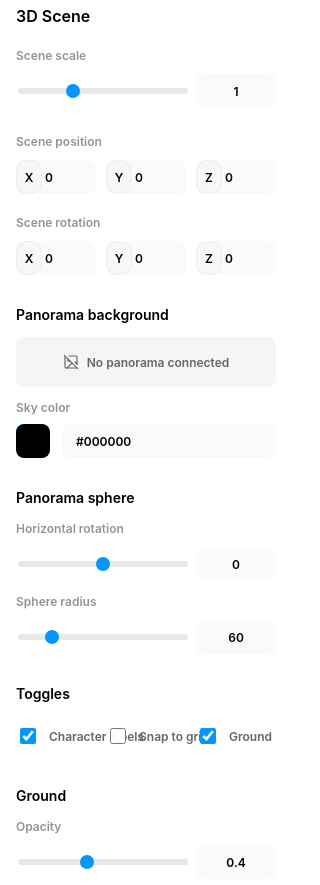
updates panorama yaw and ground height from both sliders and numeric inputs
Step 1. Replace the text in the number field named "Panorama horizontal rotation" with "45" → (236, 564), box [196,547,276,581]
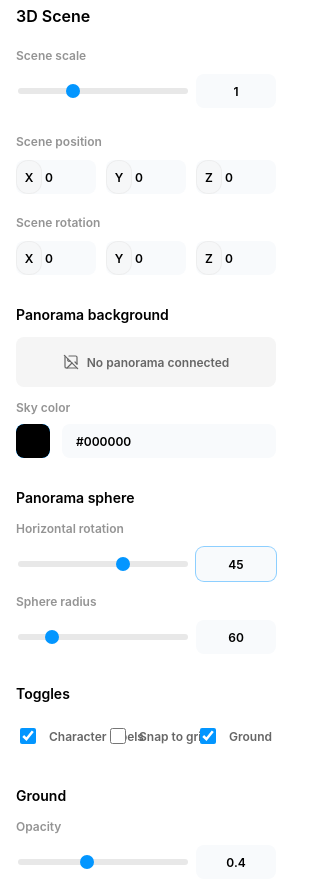
Check: the slider named "Panorama horizontal rotation slider" holds "45"
Step 2. Set the slider named "Panorama horizontal rotation slider" to "-30" → (90, 564), box [18,557,188,571]
(page scrolled)
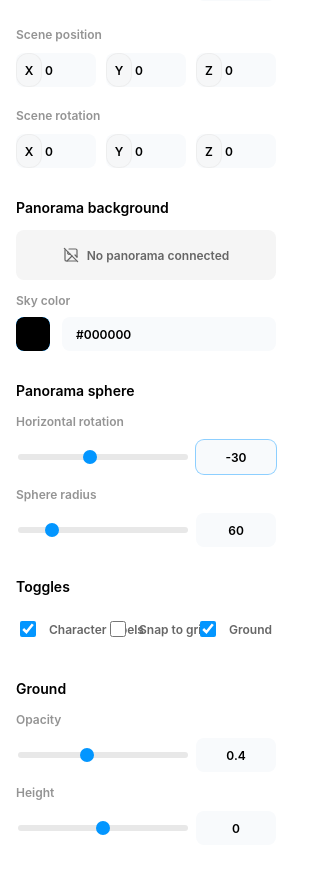
Check: the number field named "Panorama horizontal rotation" holds "-30", box [196,440,276,474]
Step 3. Replace the text in the number field named "Ground height" with "1.2" → (236, 828), box [196,811,276,845]
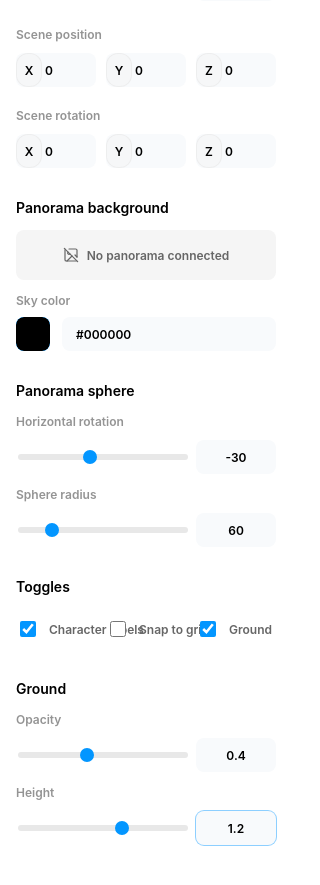
Check: the slider named "Ground height slider" holds "1.2"
Step 4. Set the slider named "Ground height slider" to "-1.5" → (80, 828), box [18,821,188,835]
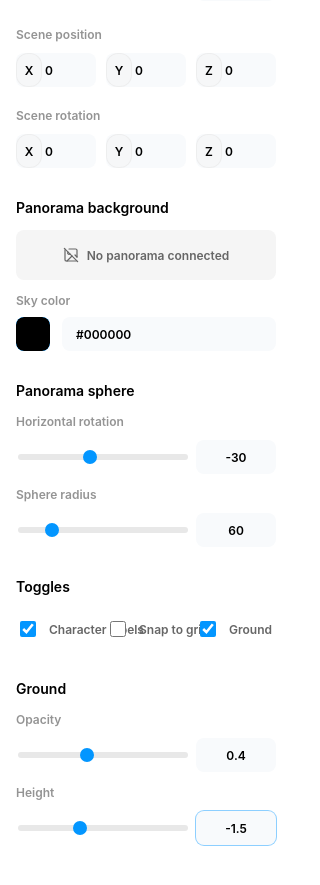
Check: the number field named "Ground height" holds "-1.5", box [196,811,276,845]
